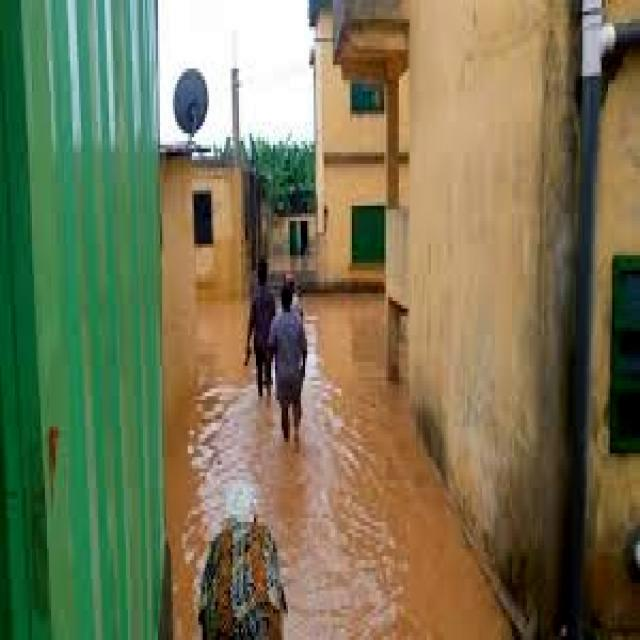civilian: (266, 280, 314, 462), (240, 258, 284, 397)
